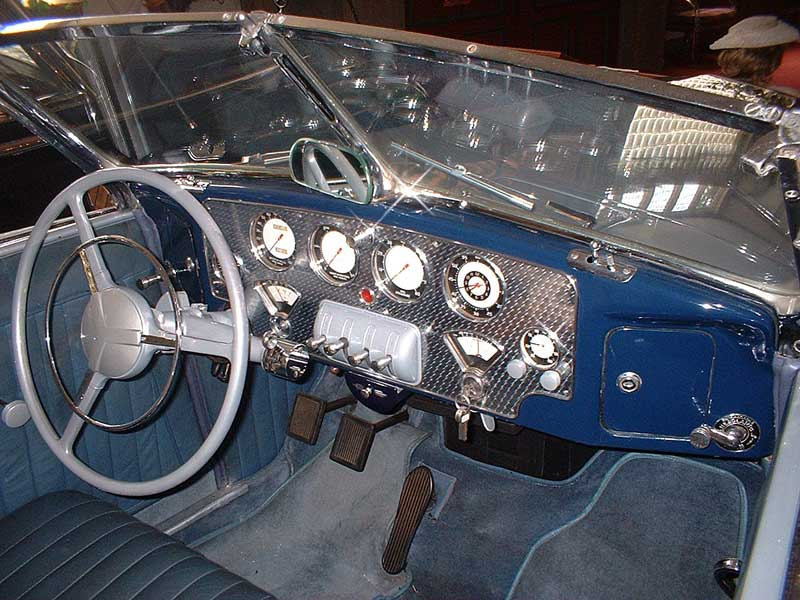Nonrec_Tangler: (1, 147, 295, 495)
